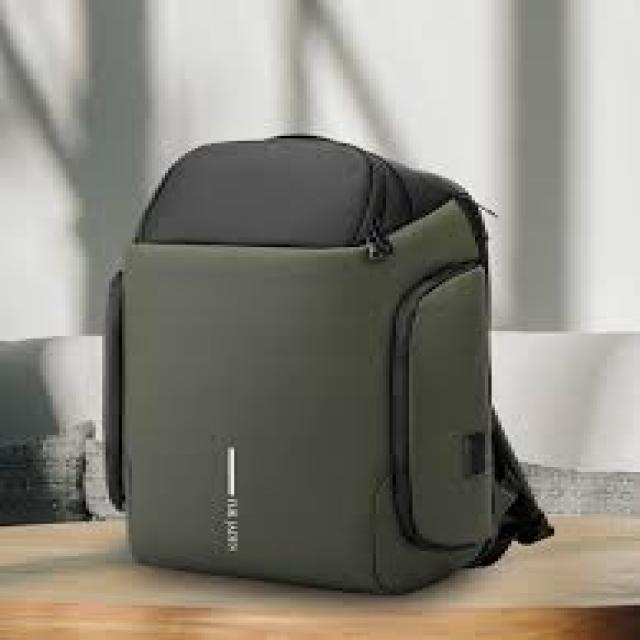backpack: (100, 132, 555, 596)
